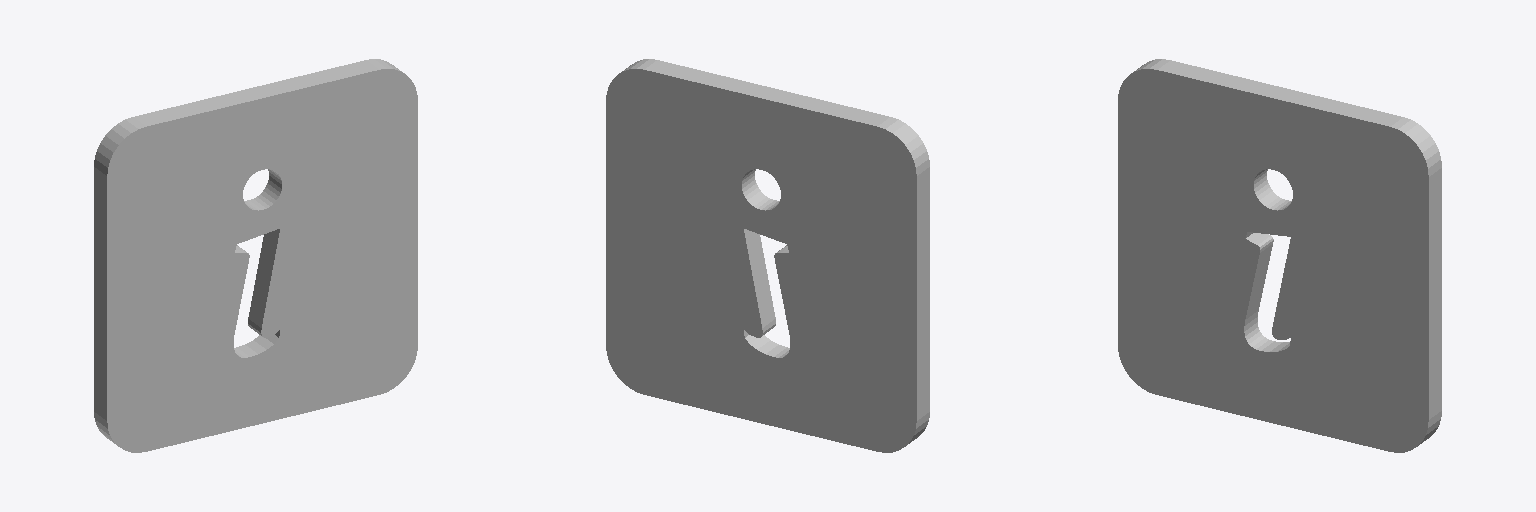
The model's file is BrownAndCaldwell.obj.
The picture shows the model from 3 angles: view 1: azimuth 30°, elevation 25°; view 2: azimuth 150°, elevation 25°; view 3: azimuth 330°, elevation 25°; orthographic projection.
Parts seen in each view (by area): view 1: BootstrapIcons; view 2: BootstrapIcons; view 3: BootstrapIcons.
Boxes of the visible parts, x1,y1,x2,y2 form: BootstrapIcons: [94, 59, 417, 452]; BootstrapIcons: [606, 59, 929, 452]; BootstrapIcons: [1118, 59, 1441, 452].
Size of the model in its own units: 4.47 by 4.47 by 0.3333.